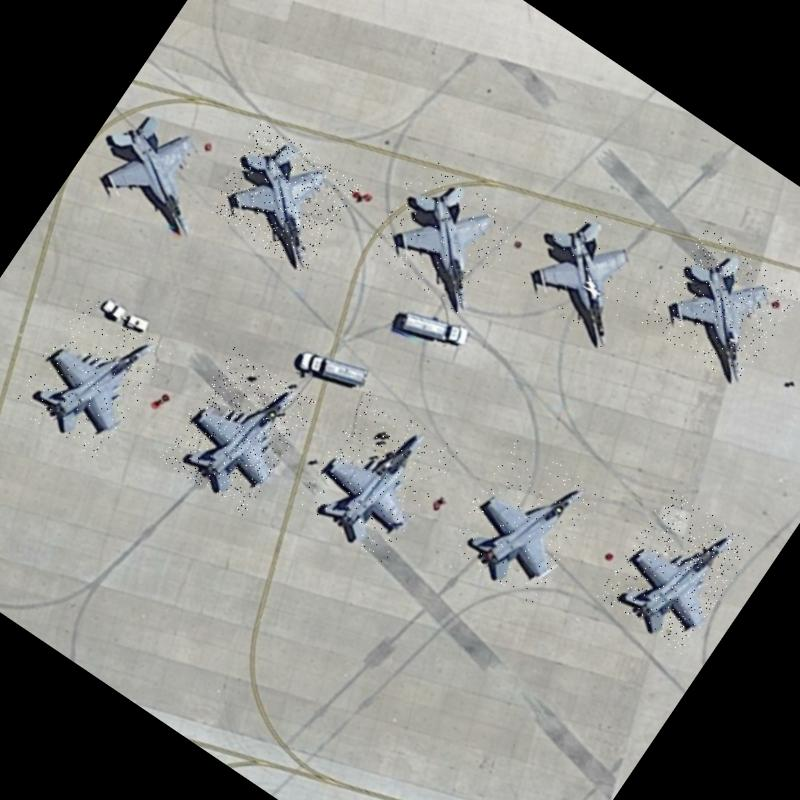A16: (8, 290, 174, 465), (293, 391, 459, 564), (442, 436, 605, 606), (158, 347, 319, 516), (596, 488, 757, 656), (362, 154, 526, 316), (641, 227, 800, 388), (201, 117, 363, 274), (79, 90, 240, 245), (507, 194, 666, 350)
